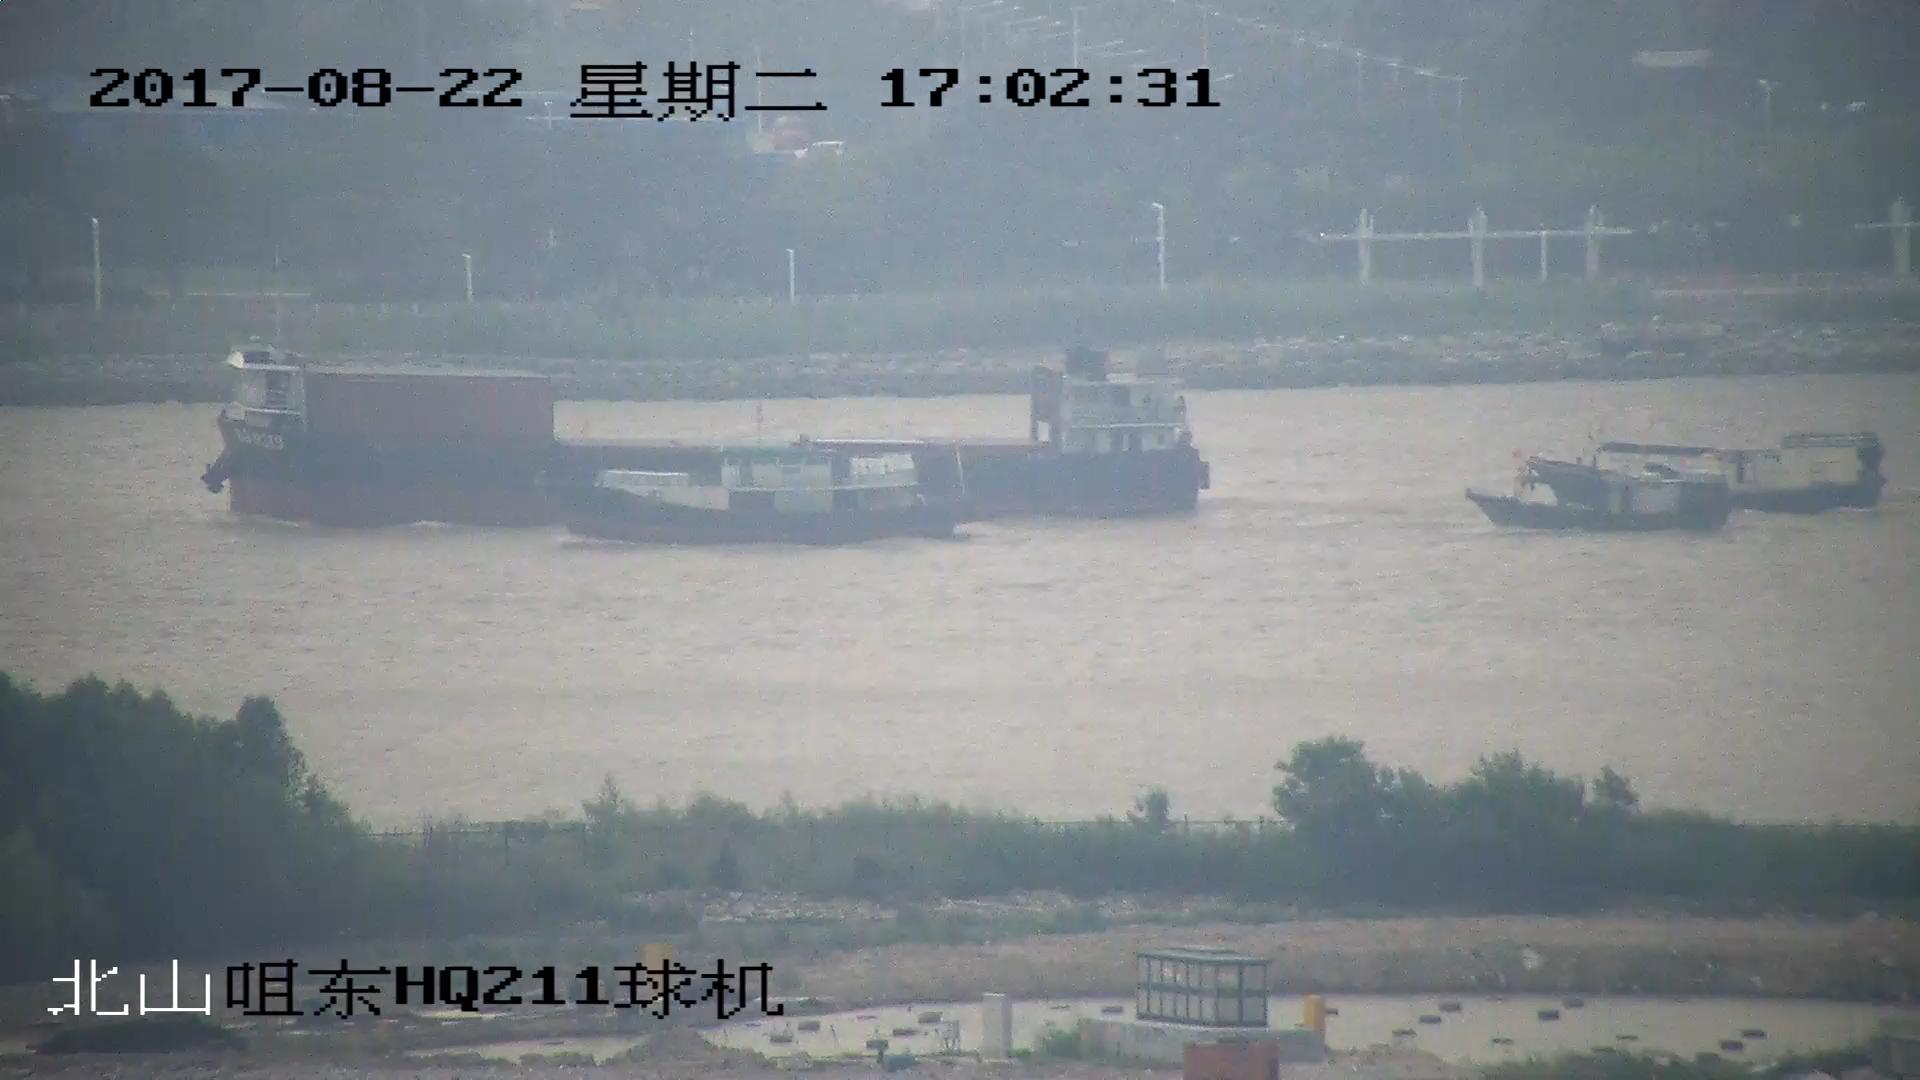Ship: (211, 313, 1203, 526), (537, 433, 968, 545), (1530, 429, 1890, 520), (1472, 458, 1727, 541)
